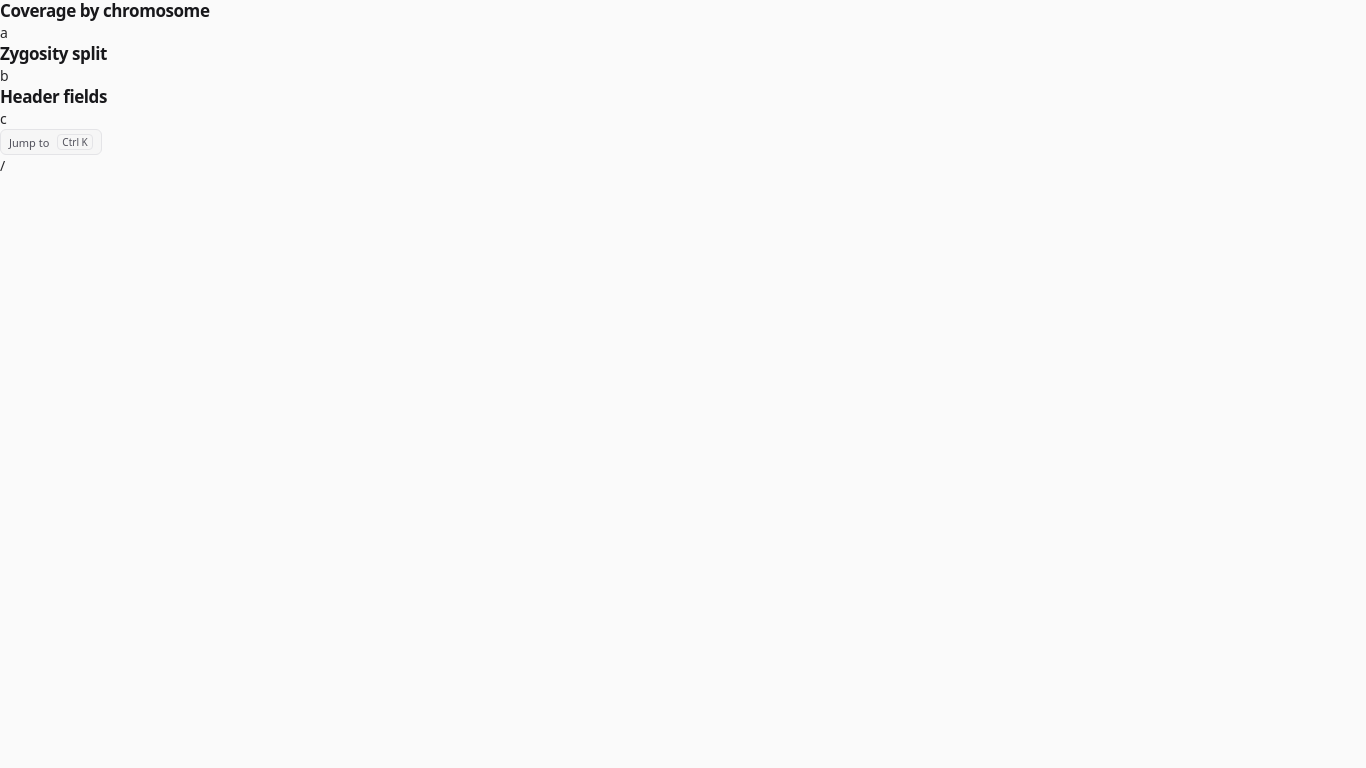
Scenario: the ⌘K palette › navigates to the page under the cursor on ArrowDown then Enter
Press k
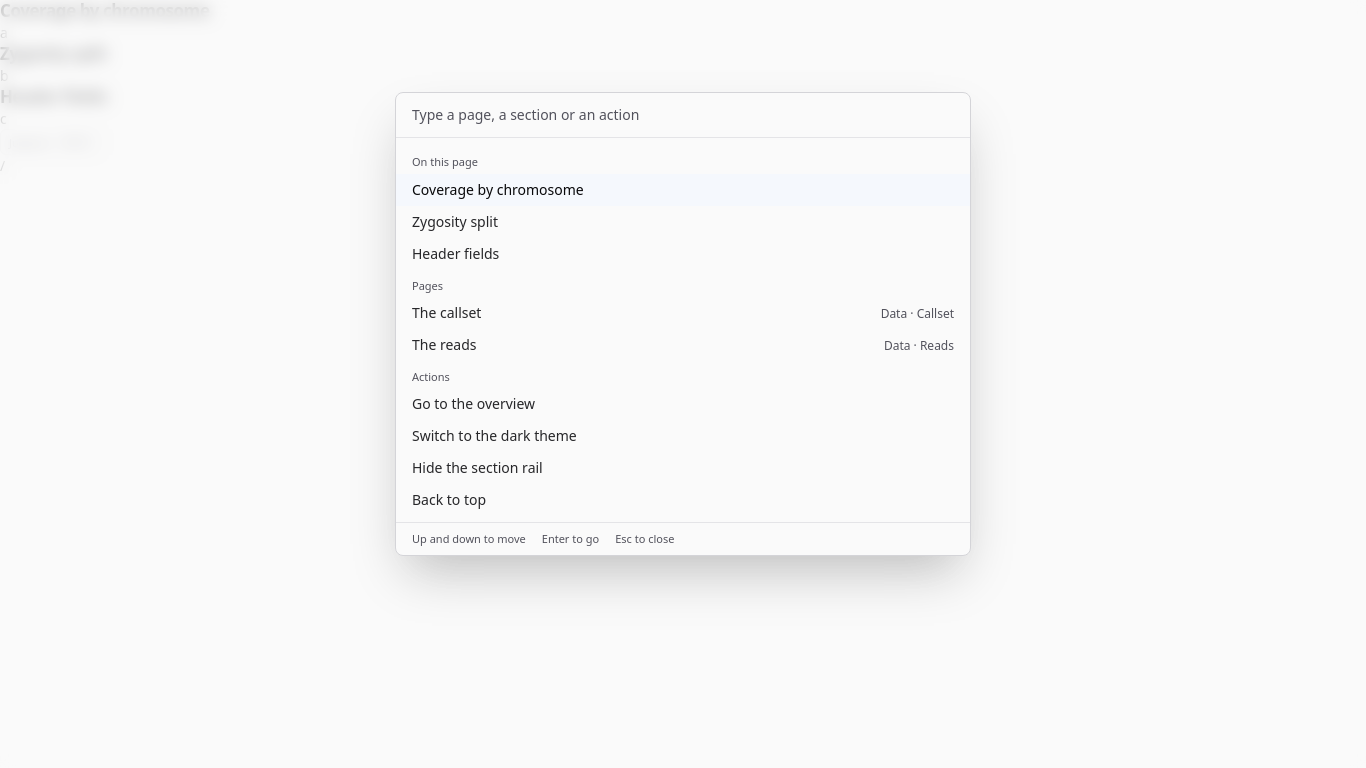
Type "the" into the dropdown at (683, 116), box 396,93 -> 970,138
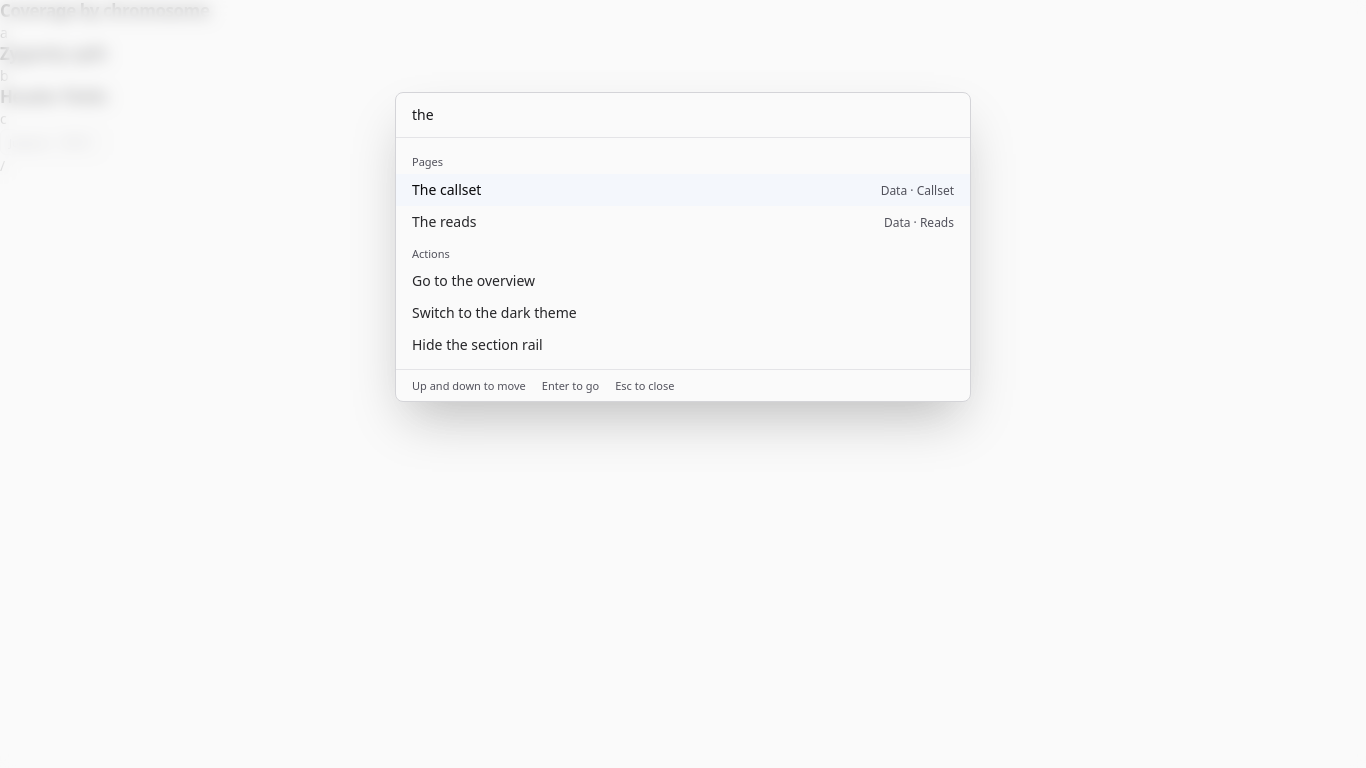
Check: the option "The callset Data · Callset" is shown, box 396,174 -> 970,206
Check: the option "The reads Data · Reads" is shown, box 412,212 -> 954,230
Press Arrowdown
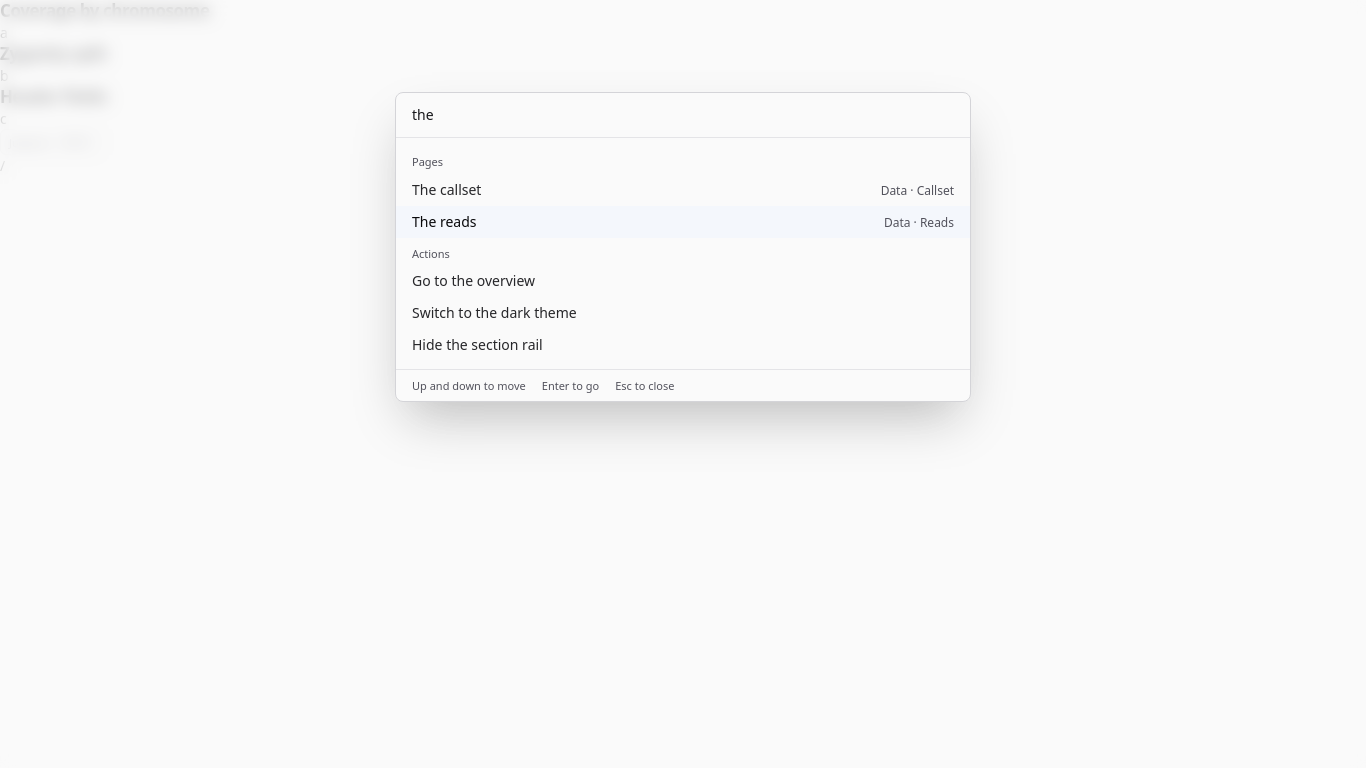
Check: the option "The reads Data · Reads" is selected, box 396,206 -> 970,238
Press Enter
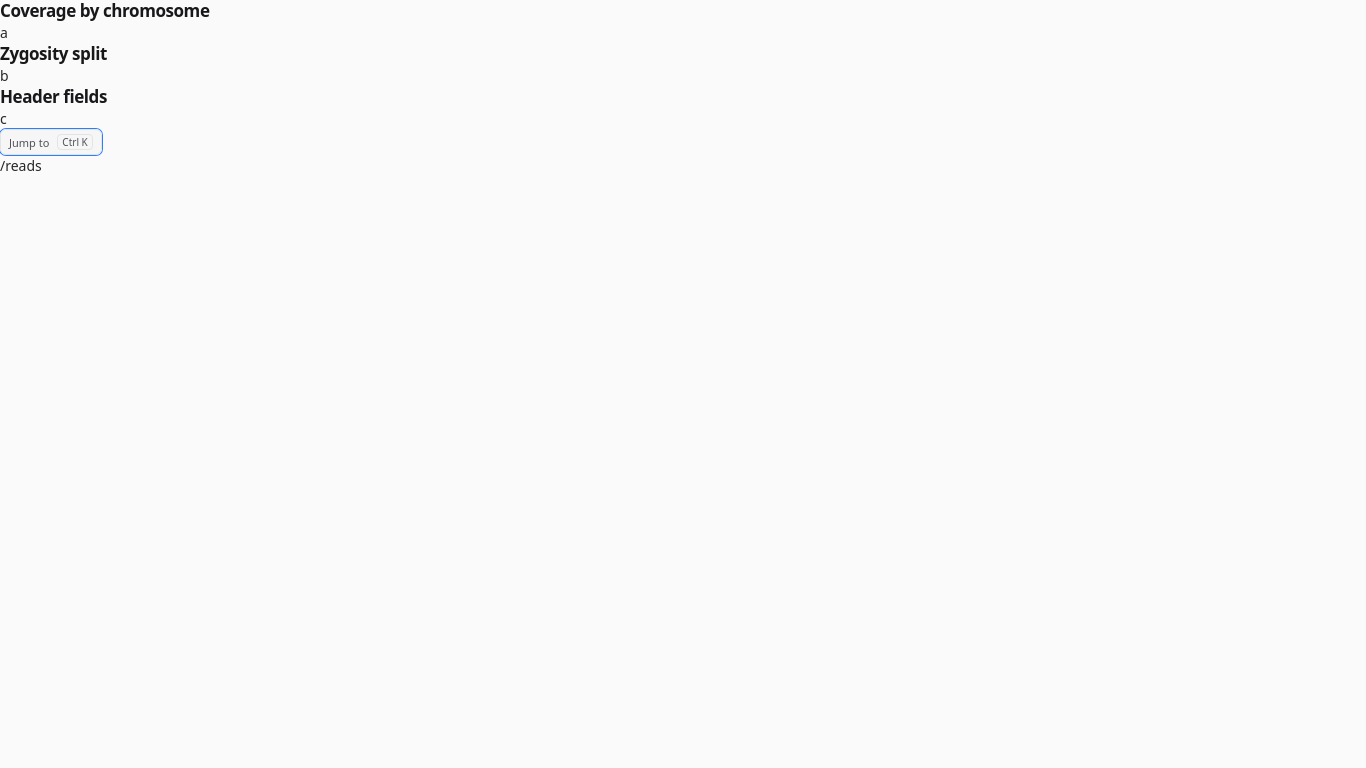
Check: the text with test id "pathname" reads "/reads", box 0,156 -> 42,175
